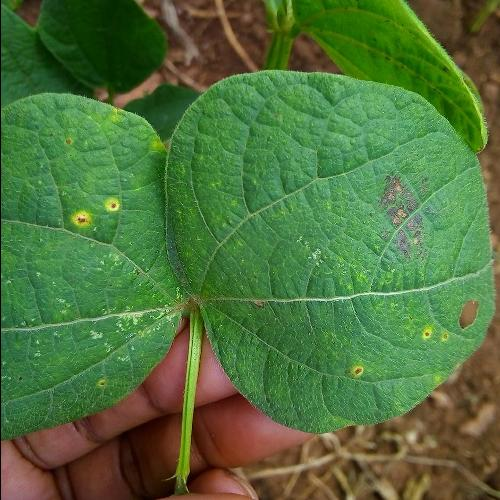hawar: (238, 111, 484, 384), (37, 141, 164, 416)
